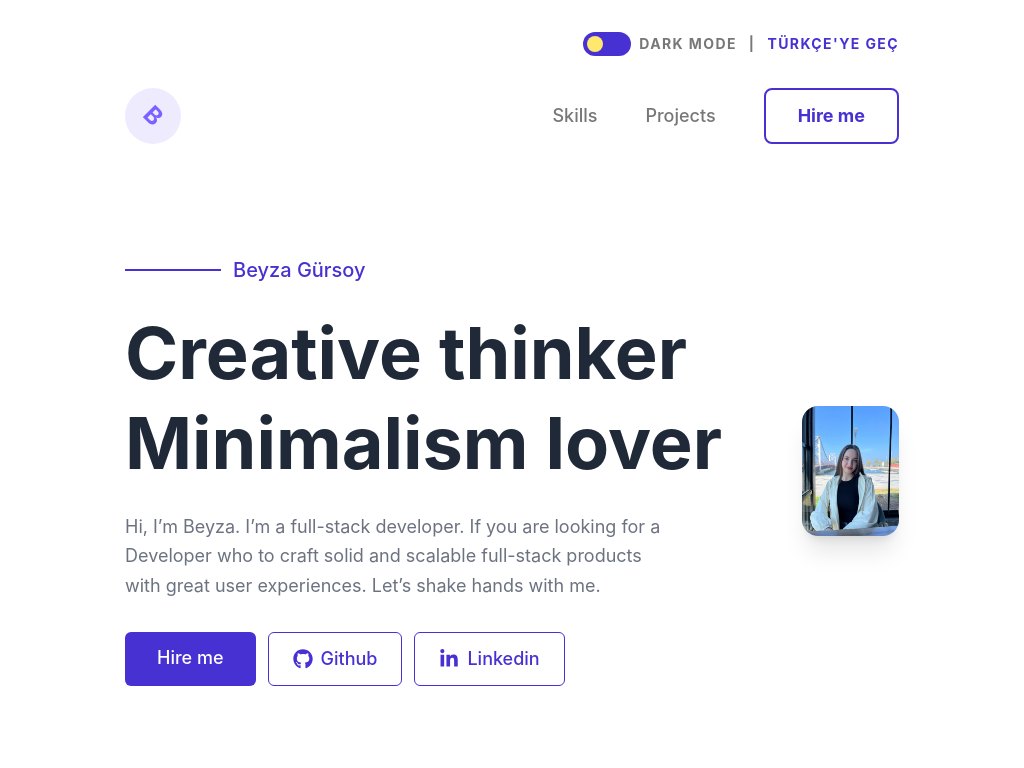
it: Portfolio App Tests › Language toggle works
The width and height of the screenshot is (1024, 768).
expect the link "Skills" is shown: met, box [552,102,597,130]
Click the button "TÜRKÇE'YE GEÇ" at (834, 44), box [768,34,900,54]
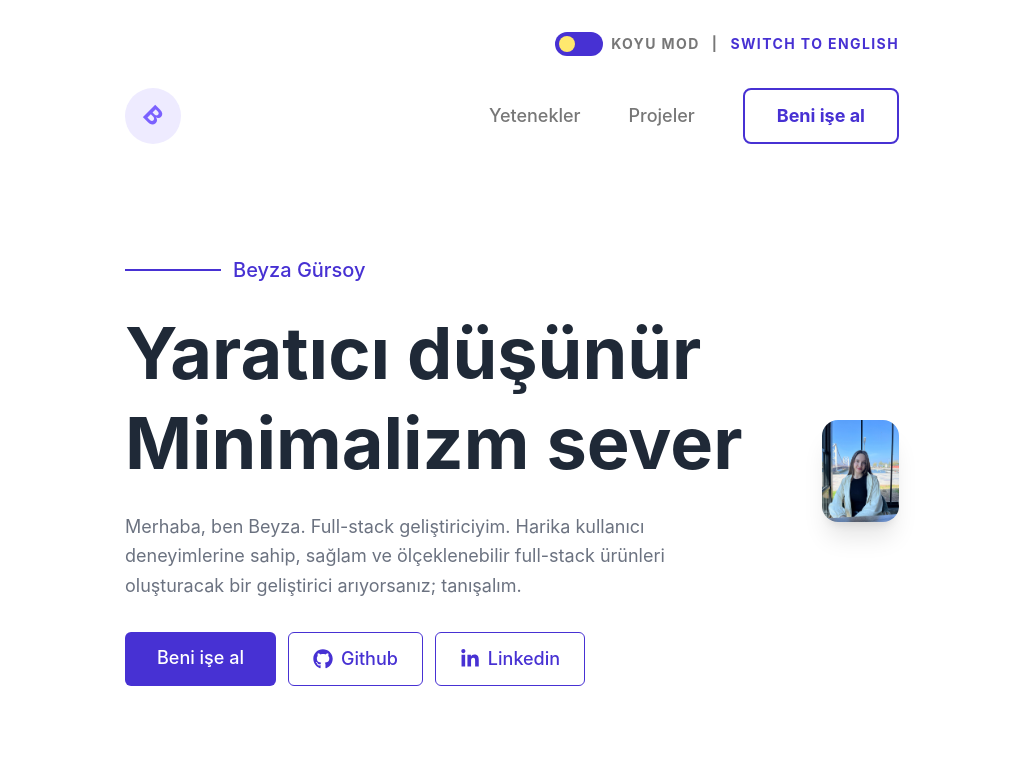
expect the link "Yetenekler" is shown: met, box [489,102,580,130]
